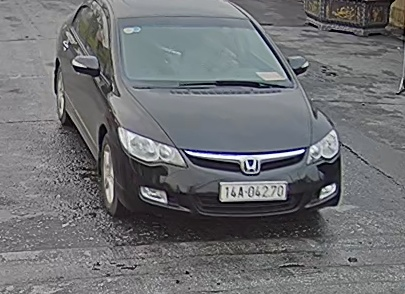vehicle plate: (213, 178, 290, 203)
